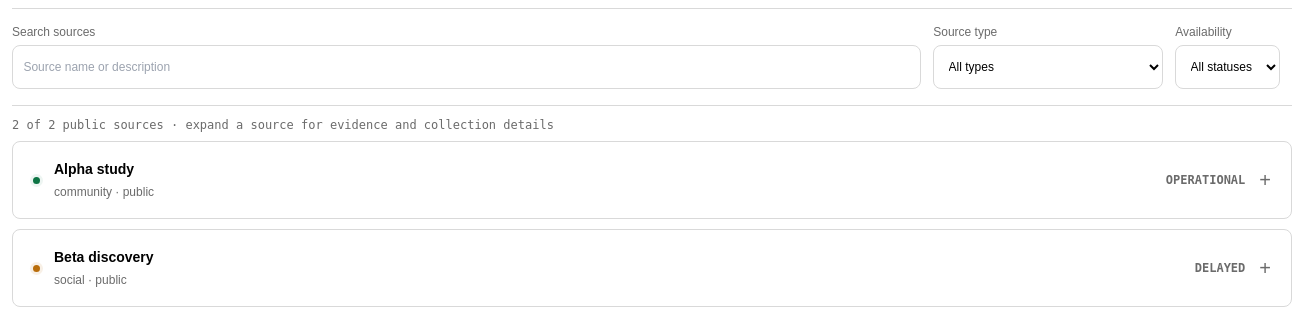
Test case: SourceRegistry › combines text, type and availability filters and can clear an empty result
This screenshot has width=1304, height=324.
Type "  ALPHA  " into the search field labelled "Search sources" at (467,67), box [12,45,921,89]
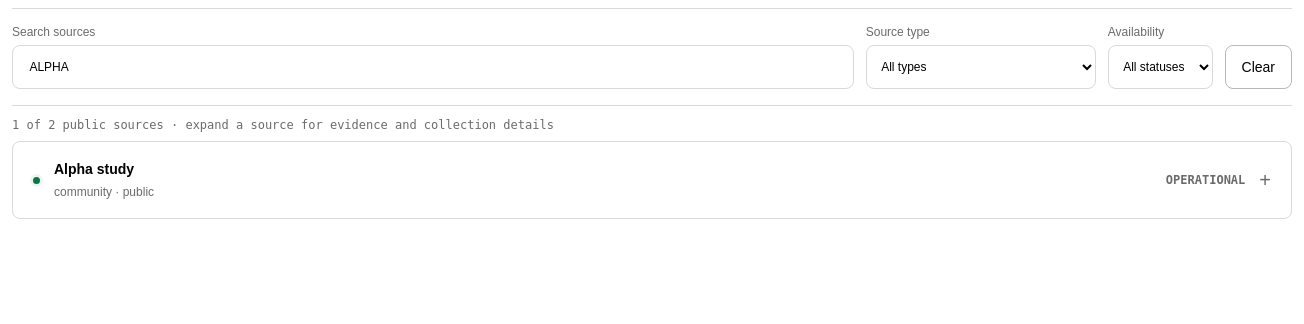
Expected: the message shows "1 of 2 public sources", [12,118,554,132]
Expected: the heading "Beta discovery" is gone
Select "community" in the dropdown labelled "Source type" at (981,67), box [866,45,1096,89]
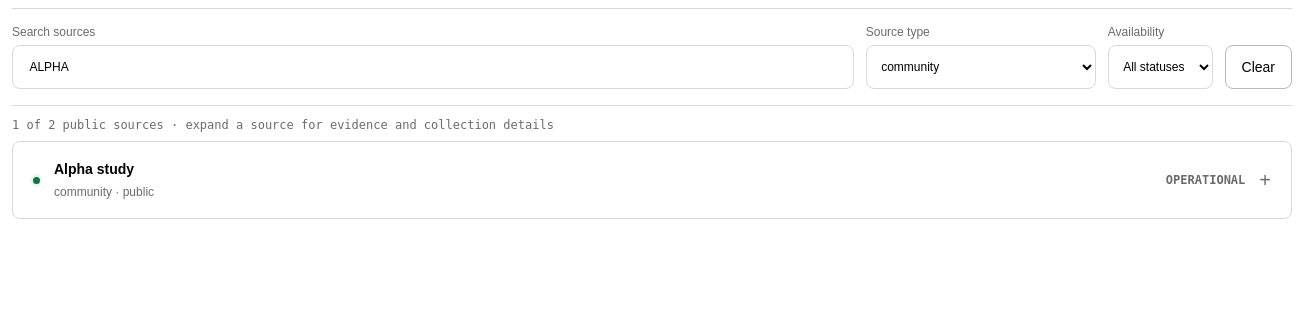
Select "delayed" in the dropdown labelled "Availability" at (1160,67), box [1108,45,1213,89]
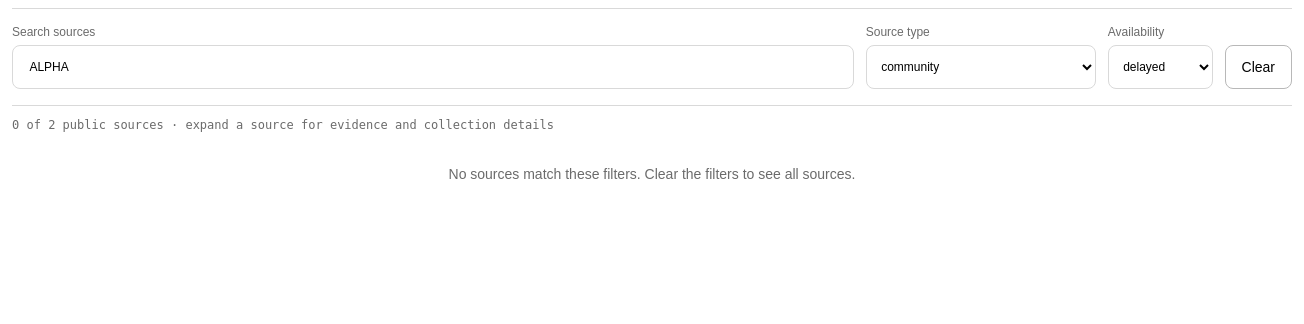
Expected: the message shows "0 of 2 public sources", [12,118,554,132]
Expected: the text "No sources match" is shown, [448,166,856,182]
Click the button "Clear" at (1258,67), box [1224,45,1292,89]
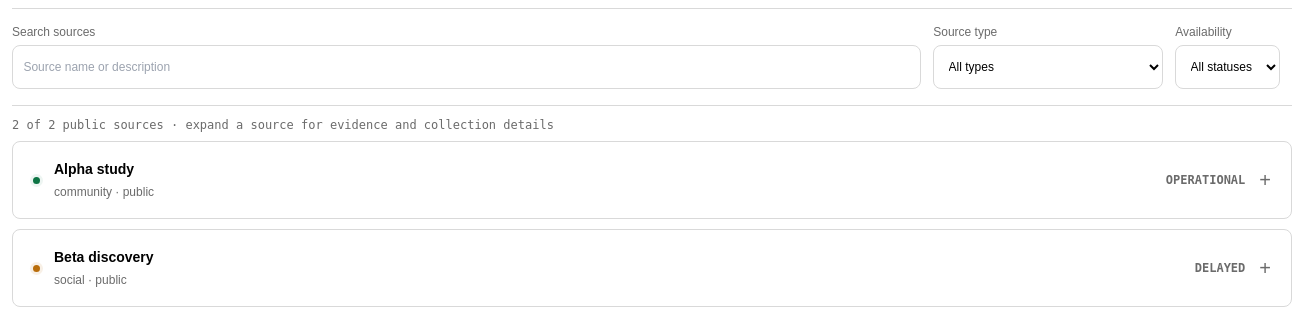
Expected: the number of list items is 2, [12,141,1292,219]; [12,229,1292,307]
Expected: the search field is empty, [12,45,921,89]
